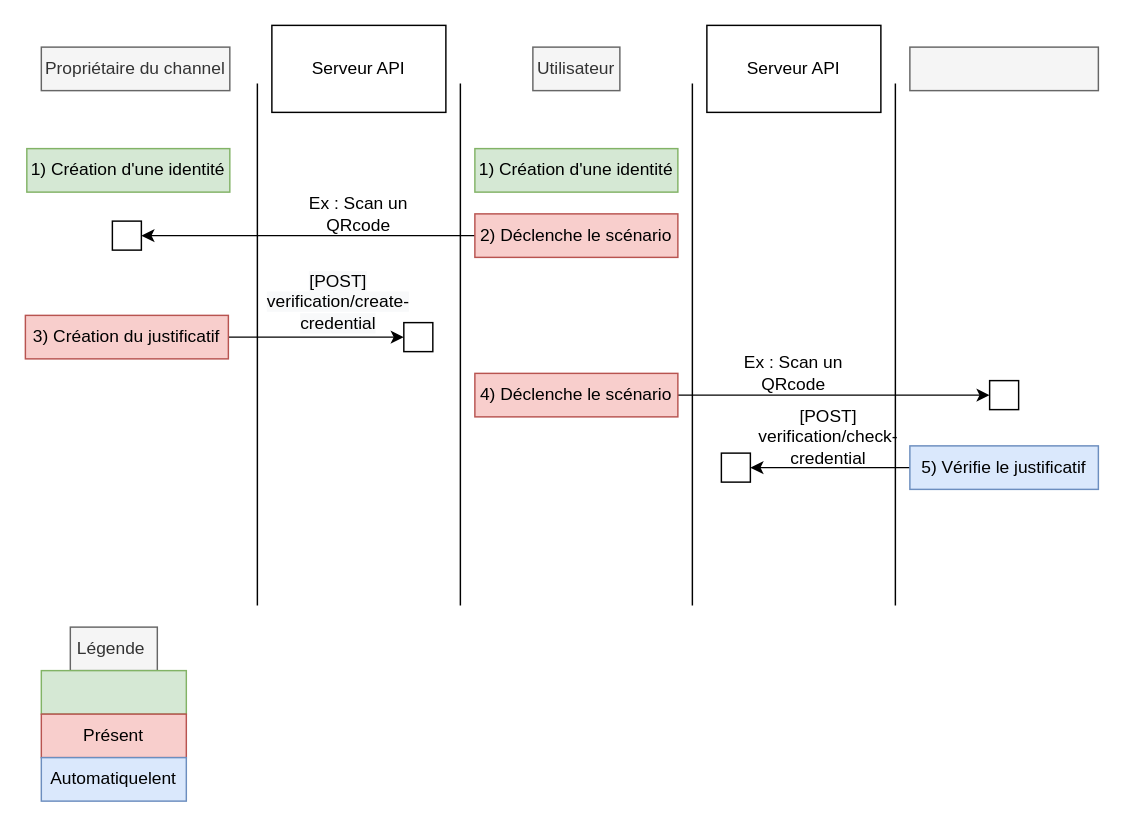
Some shapes in this 1124 by 827 pixel diagram are drawn without their labels. The shapes that lost their labels are listed below. From the top down, each one's centre as x and y in pixels, then its label:
At point (1003, 68): "Vérificateur".
At point (113, 691): "Antérieurement".
